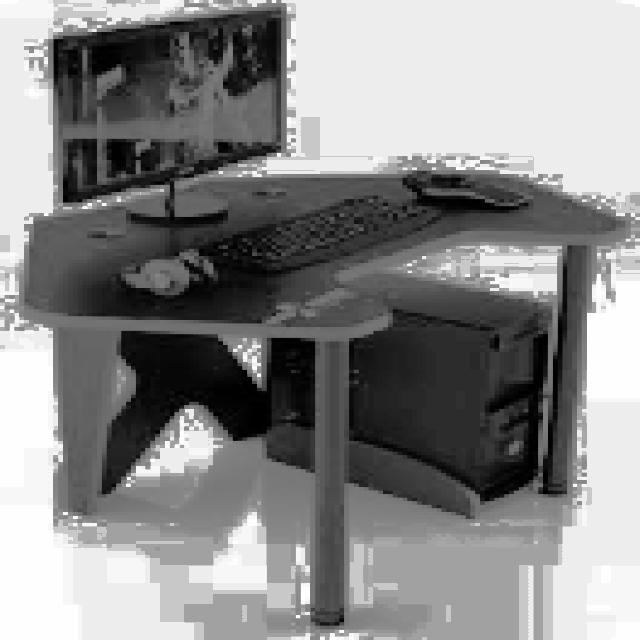table: (19, 167, 626, 626)
